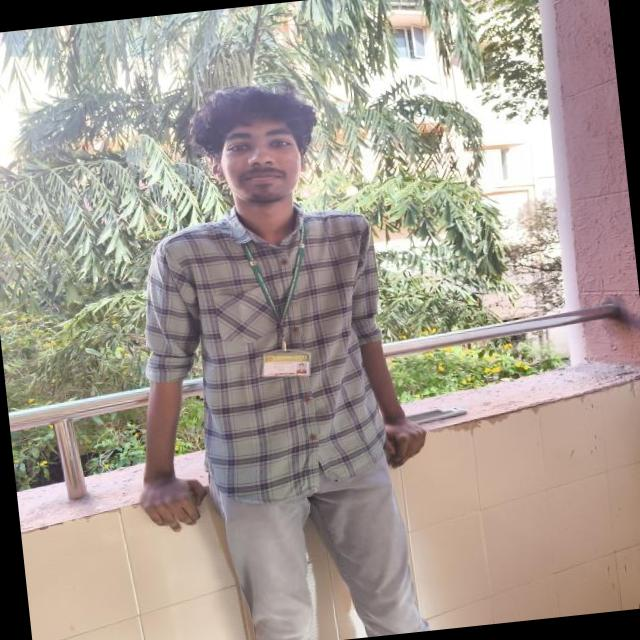id_card: (240, 214, 322, 387)
